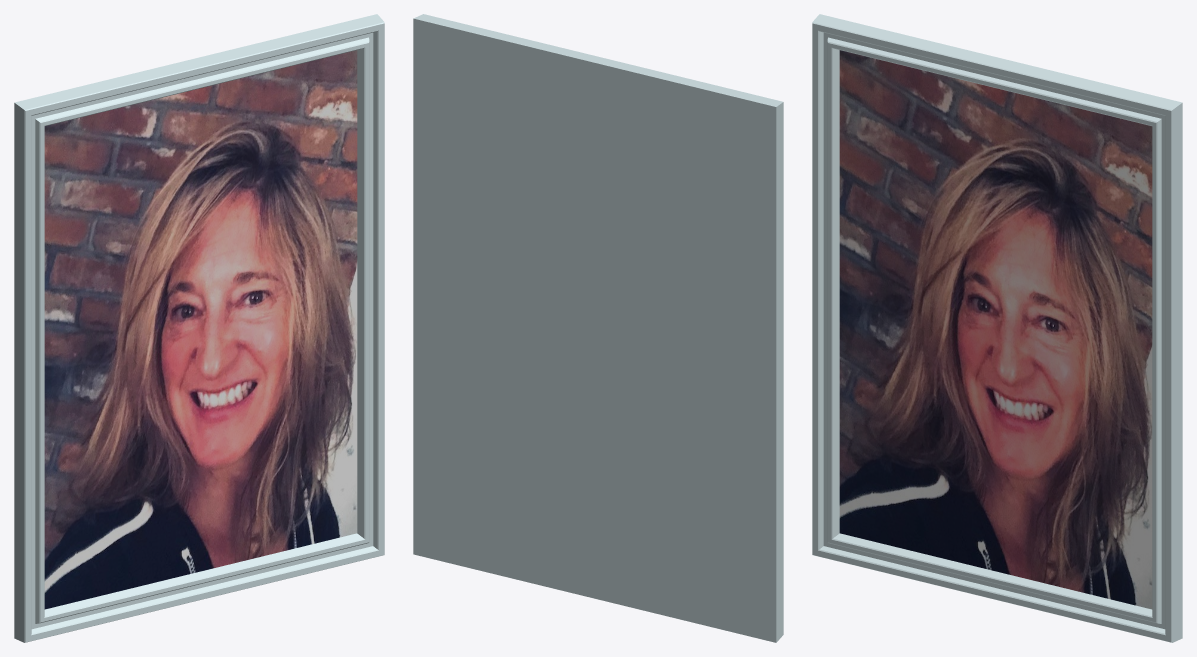
File: aws_PortraitE_01_visual.DAE
The picture shows the model from 3 angles, left to right: view 1: azimuth 30°, elevation 25°; view 2: azimuth 150°, elevation 25°; view 3: azimuth 330°, elevation 25°; orthographic projection.
Parts seen in each view (by area): view 1: aws_PortraitE_01_visual; view 2: aws_PortraitE_01_visual; view 3: aws_PortraitE_01_visual.
Boxes of the visible parts, x1,y1,x2,y2 form: aws_PortraitE_01_visual: (14, 14, 384, 642); aws_PortraitE_01_visual: (413, 14, 783, 642); aws_PortraitE_01_visual: (812, 14, 1182, 642).
Bounding box in the file's own units: 54.13 × 2.38 × 76.35.
2 materials, 2 textured.
